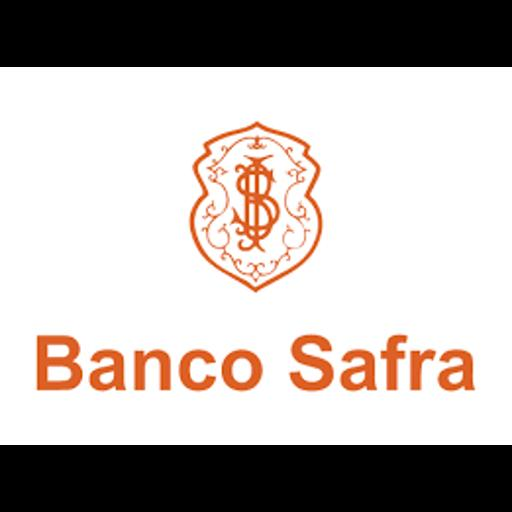Banco Safra: (0, 67, 512, 445)
